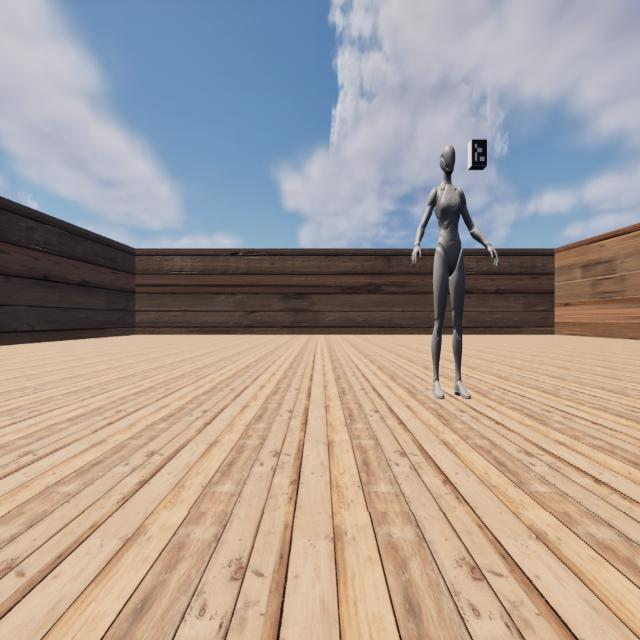aruco: (472, 140, 487, 165)
hip: (434, 249, 464, 260)
